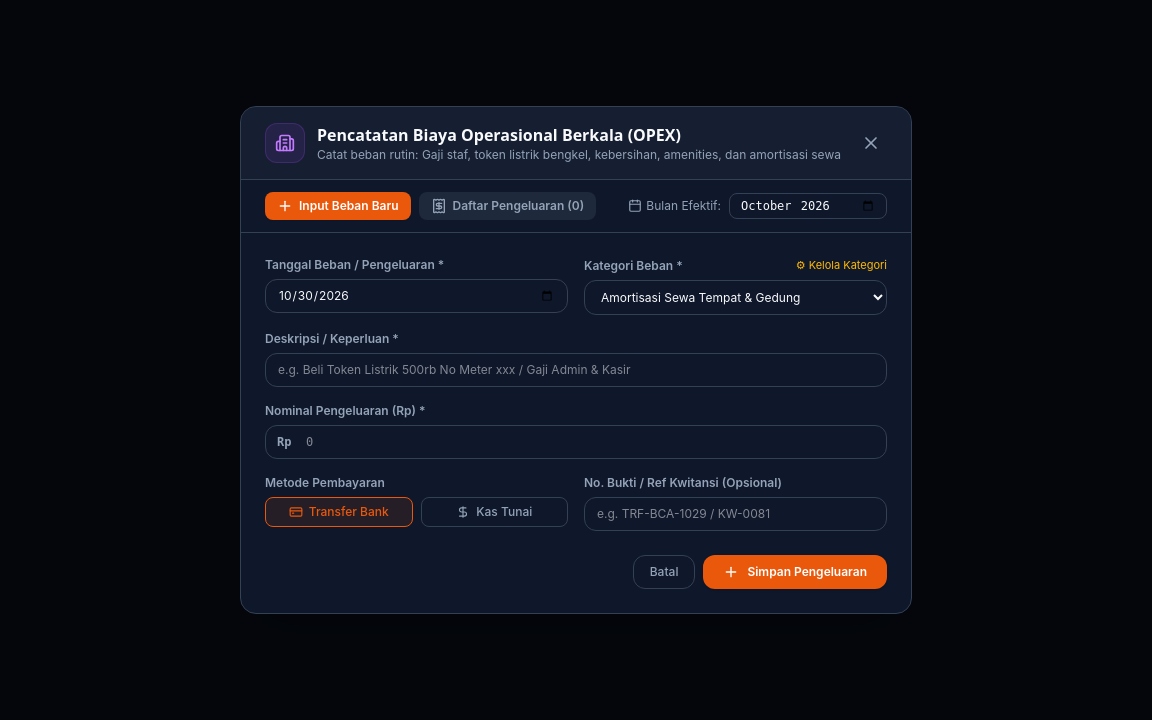
Test case: Component: OperatingExpenseManagerModal & OpexLoggingModal › displays "⚙ Kelola Kategori" button and opens category manager modal when clicked
Click the button "⚙ Kelola Kategori" at (841, 266), box [796, 257, 887, 274]
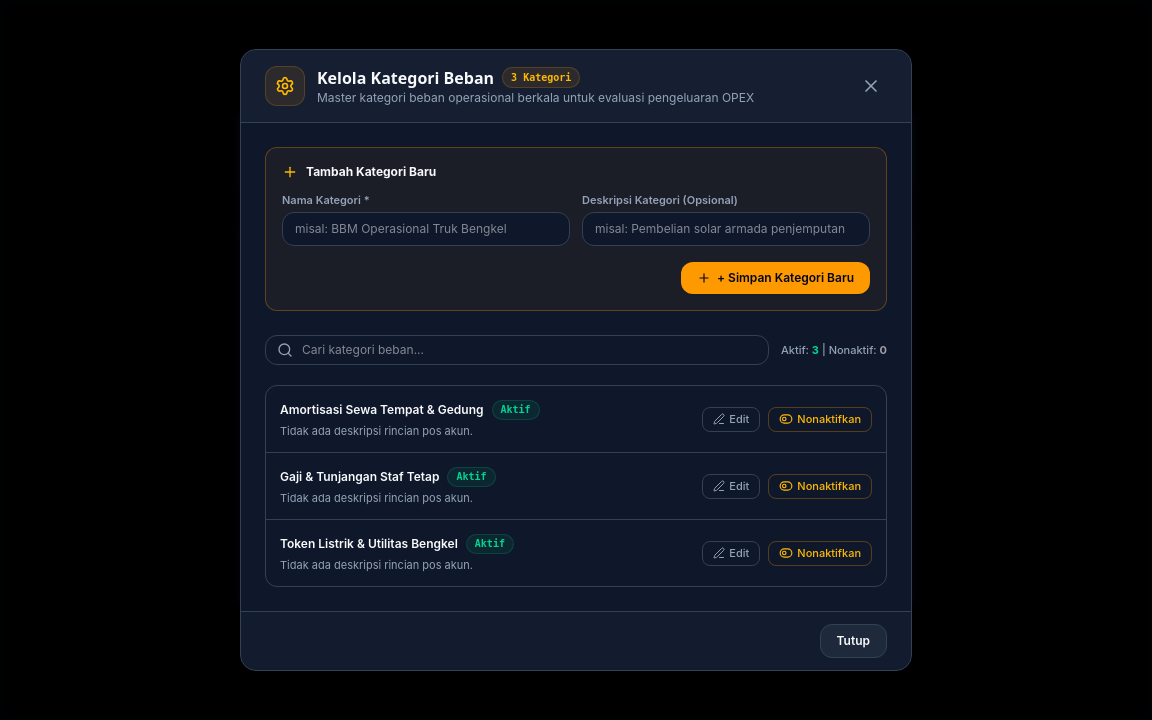
expect the text "Kelola Kategori Beban" is shown: met, box [317, 66, 494, 90]
